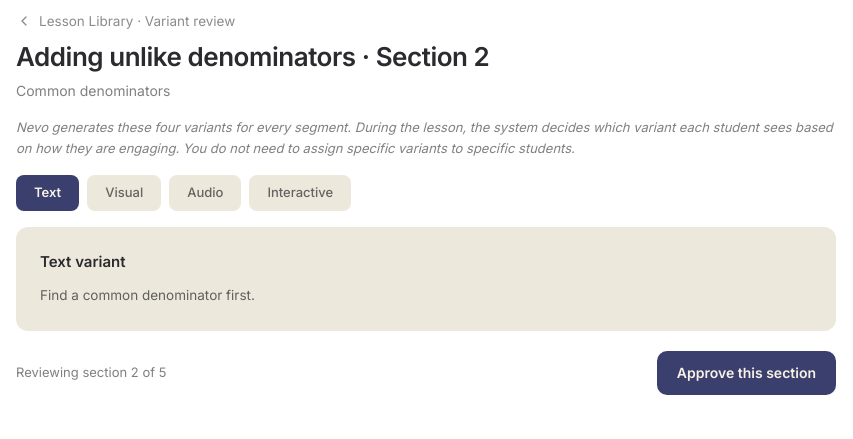
Test case: approving a section › says the lesson can be assigned once the last section lands
Click the button "Approve this section". click: x=746, y=373
box: [657,351,836,395]
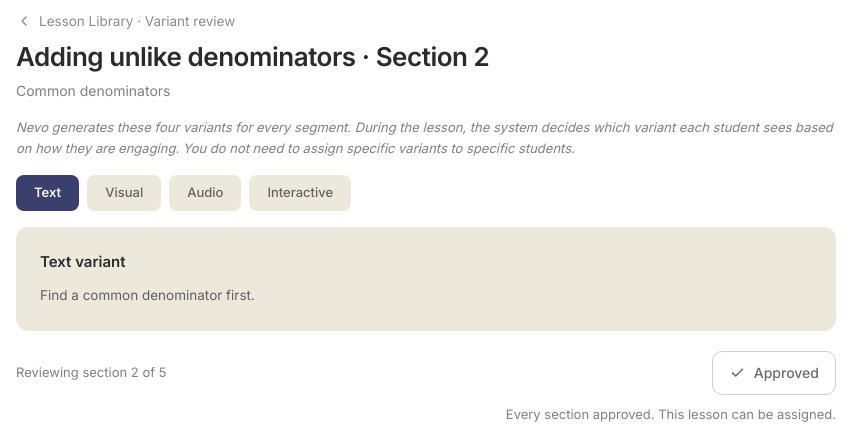
expect the text "Every section approved. This lesson can be assigned." is shown: met, box [506,406,836,422]
